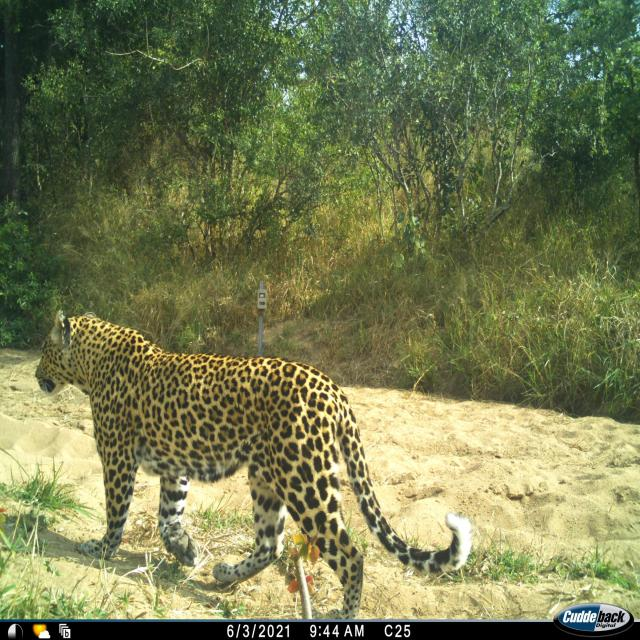Leopard: (29, 308, 478, 610)
